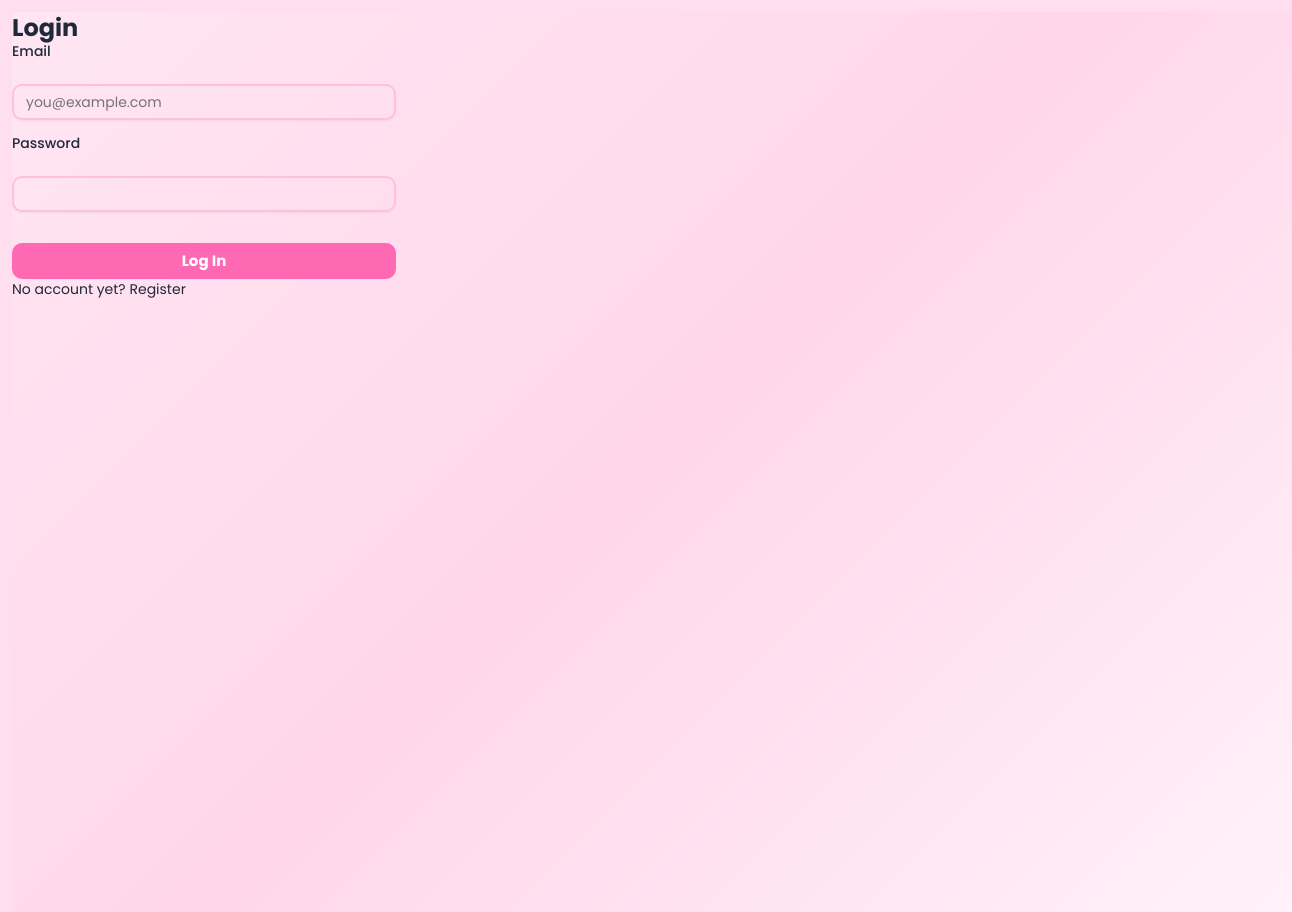
Test: LoginPage validation › shows the schema email error and does not send a request
Type "not-an-email" into the field labelled "Email" at (204, 102), box [12,84,396,120]
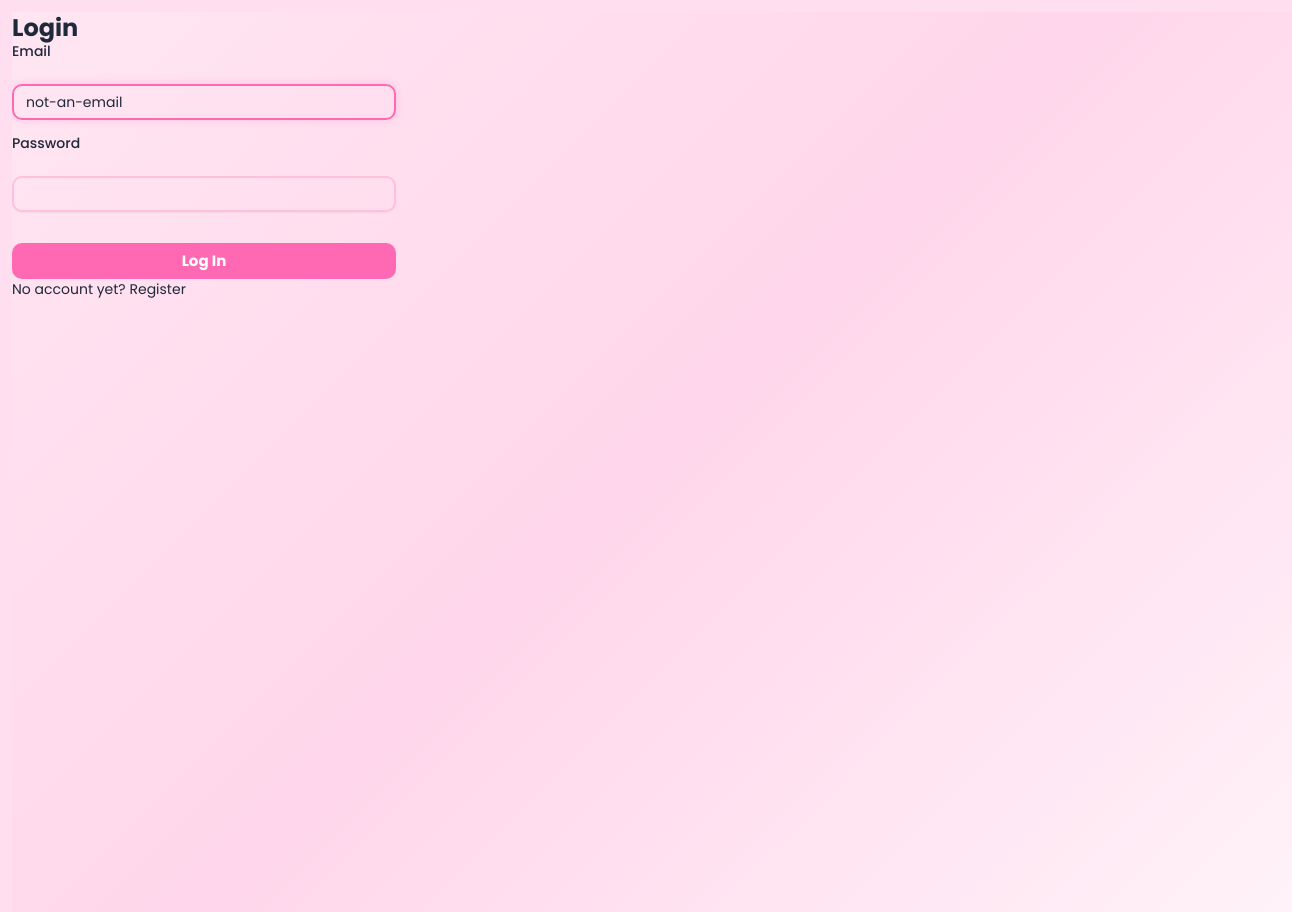
Click the button "Log In" at (204, 261), box [12,243,396,279]
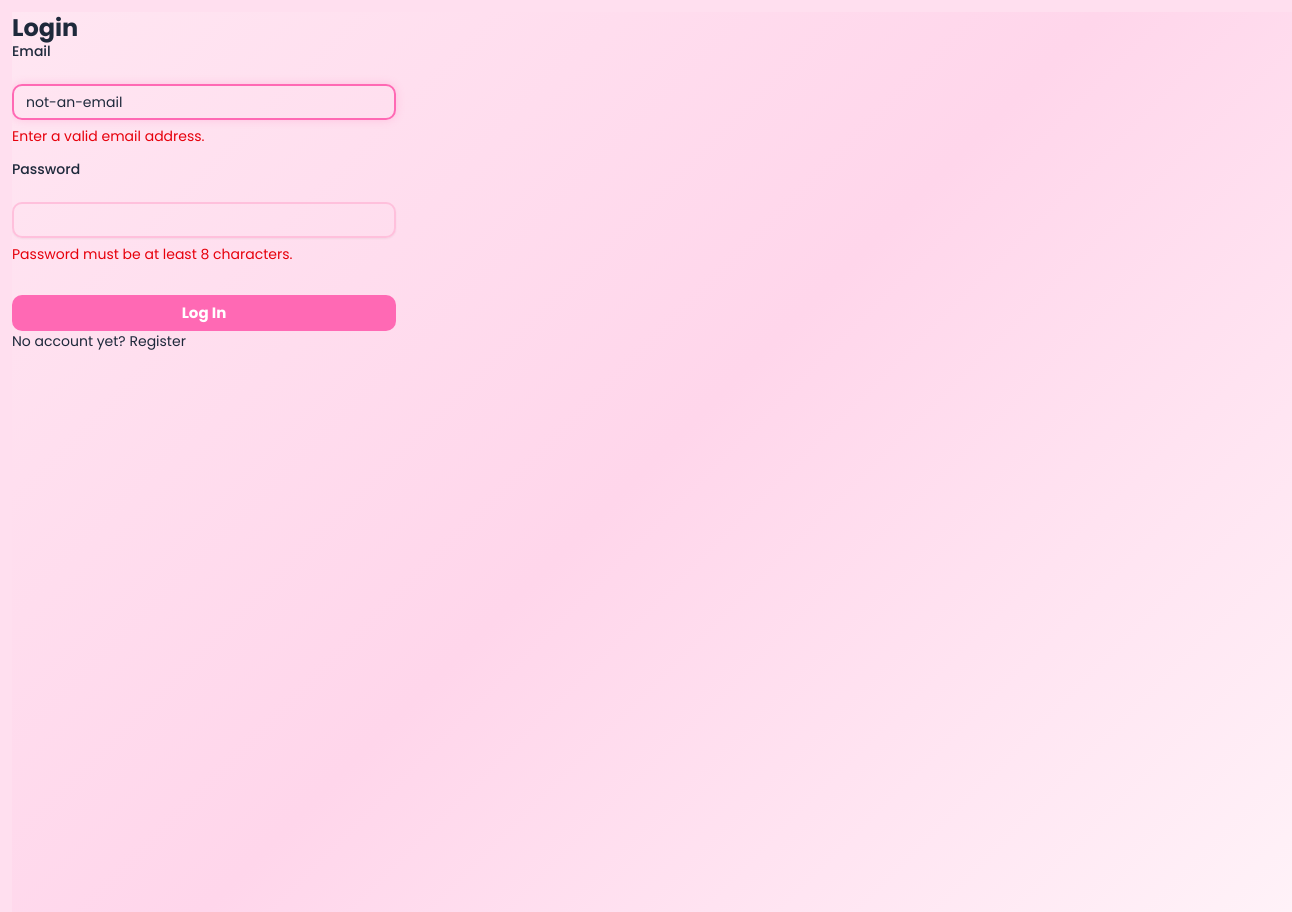
Now the text "Enter a valid email address." is shown, box [12,126,204,146]
